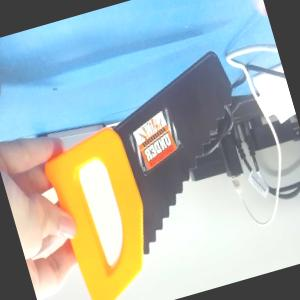serrote: (32, 46, 282, 300)
